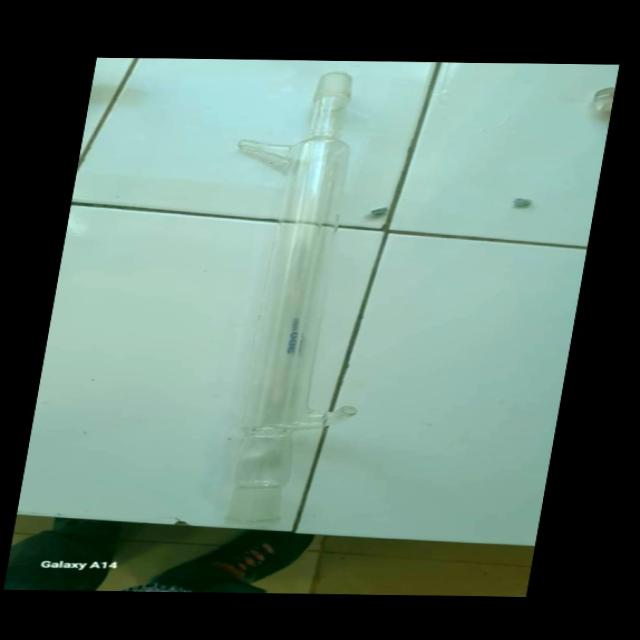Distillation: (153, 68, 431, 534)
